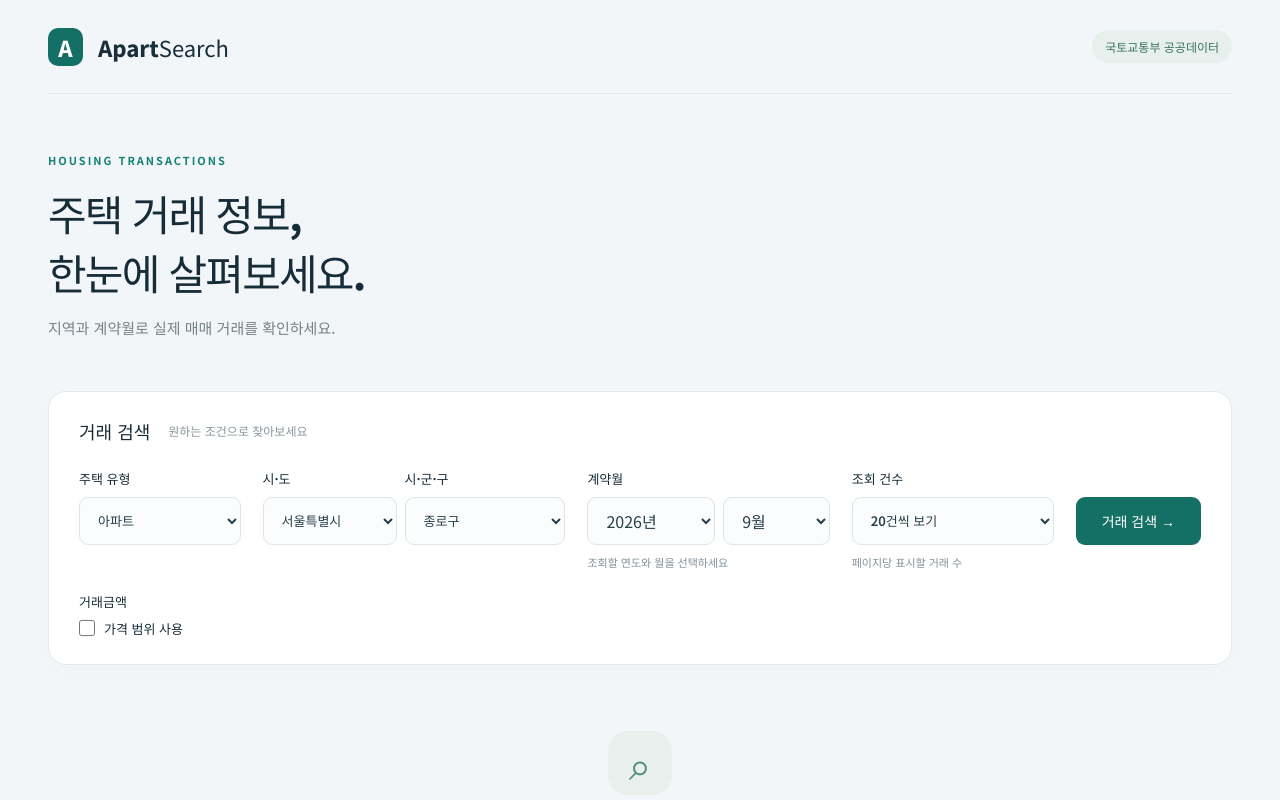
Test case: opens the transaction location in a new Google Maps tab
The width and height of the screenshot is (1280, 800).
Click the button "거래 검색 →" at [1138, 521], box [1076,497,1201,545]
(page scrolled)
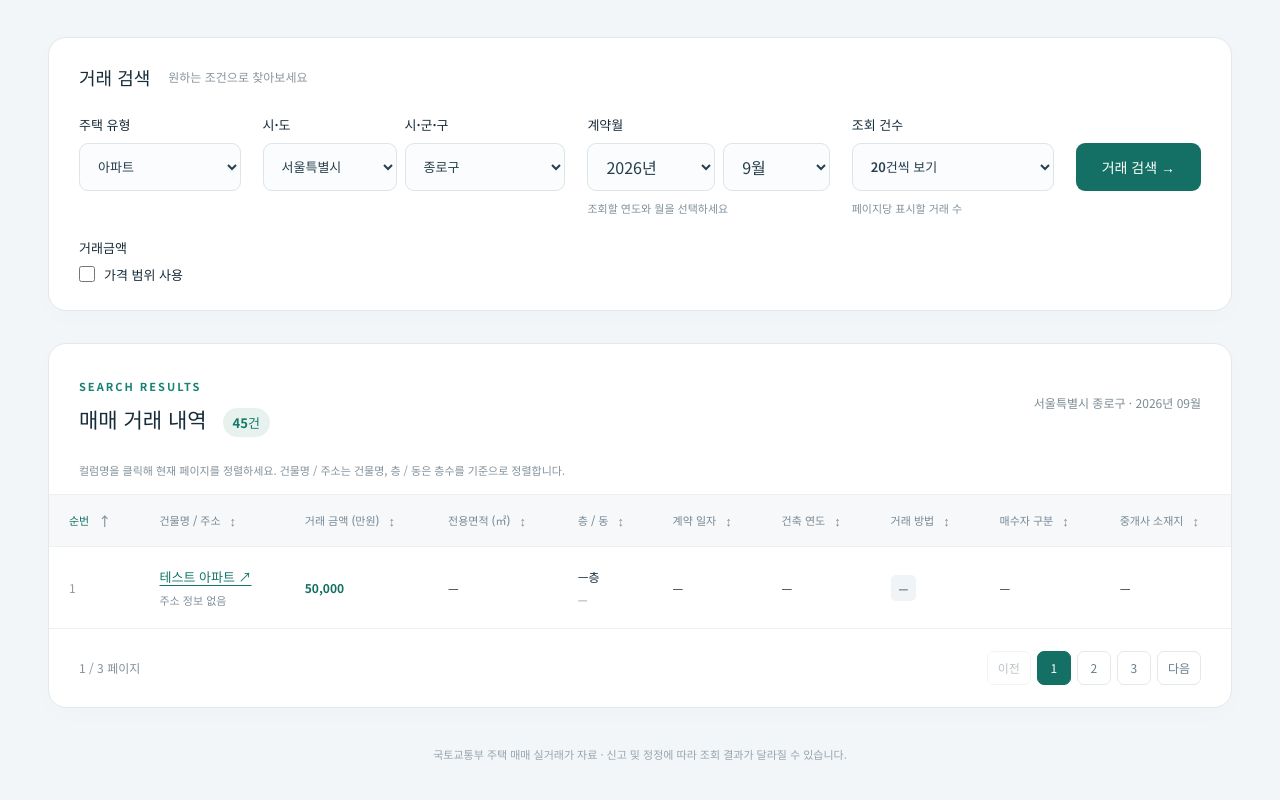
expect the link "테스트 아파트 ↗" is shown: met, box [160,567,252,586]
